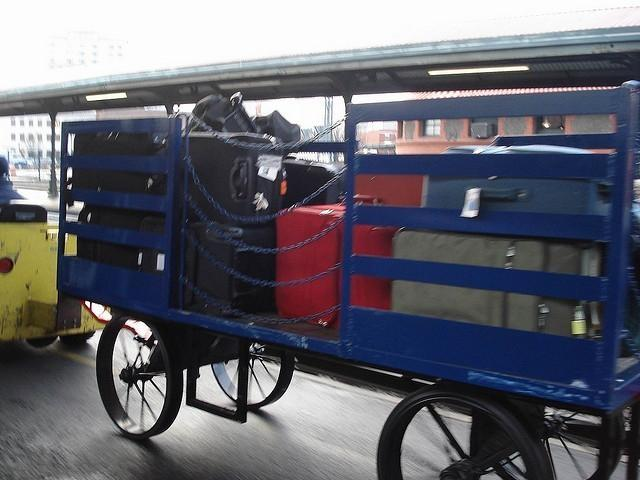truck: (0, 157, 107, 350)
